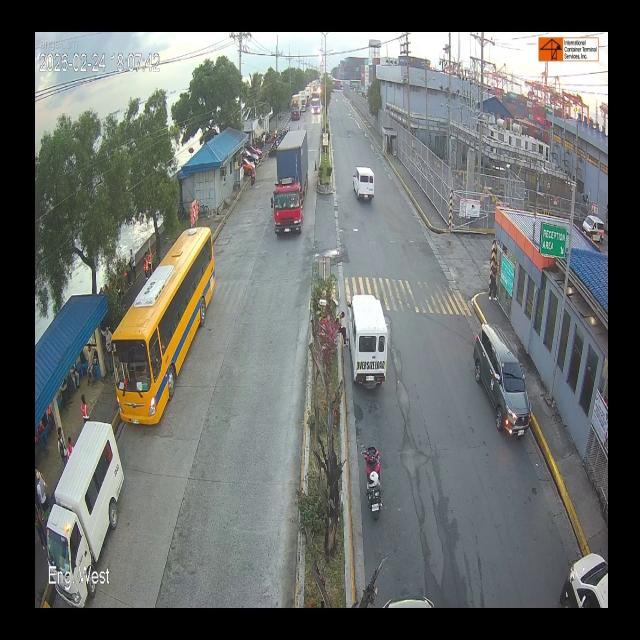bus: (104, 219, 225, 444)
car: (36, 457, 130, 600), (462, 323, 540, 469), (351, 282, 407, 404), (344, 151, 382, 218)
motorcycle: (358, 427, 397, 529)
truck: (264, 128, 320, 256), (308, 88, 324, 119), (290, 94, 302, 125)
